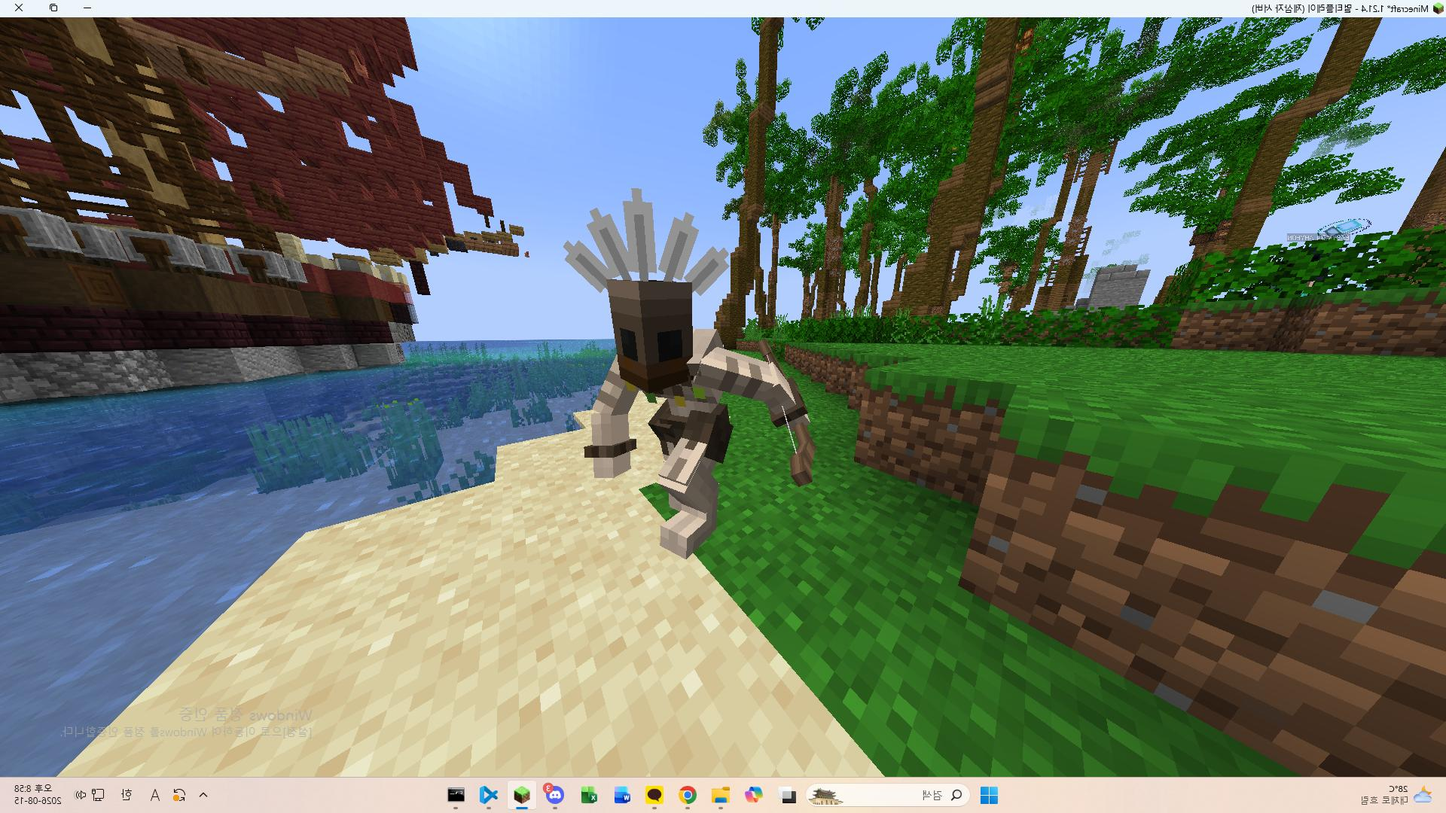bow_indian: (472, 180, 837, 579)
